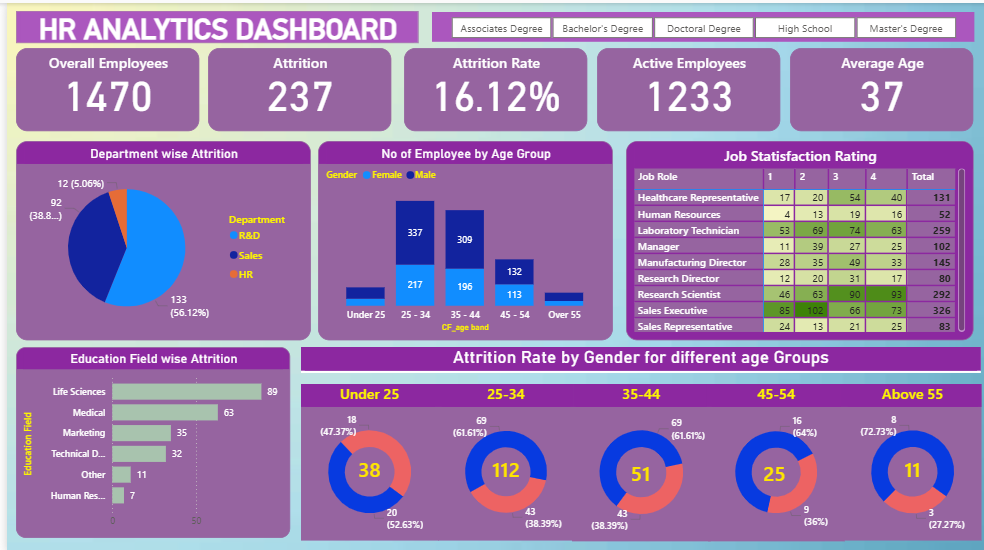

Layout of this report page (visuals, bound fields, positions):
{"tool":"powerbi","page":{"name":"Page 1","canvas":[1280,720],"ordinal":0},"visuals":[{"type":"card","title":"Overall Employees","fields":{"Values":["Sum(Data.Employee Count)"]},"box":[11.8,58.8,240.2,109.2],"z":0},{"type":"card","title":"Attrition","fields":{"Values":["Sum(Data.Attrition Count)"]},"box":[263.7,58.8,240.2,109.2],"z":1000},{"type":"card","title":"Attrition Rate","fields":{"Values":["Data.Attrition Rate"]},"box":[519.1,58.8,240.2,109.2],"z":2000},{"type":"card","title":"Active Employees","fields":{"Values":["Data.Active Employees"]},"box":[772.7,58.8,240.2,109.2],"z":3000},{"type":"card","title":"Average Age","fields":{"Values":["Avg(Data.Age)"]},"box":[1024.7,58.8,240.2,109.2],"z":4000},{"type":"pieChart","title":"Department wise Attrition","fields":{"Category":["Data.Department"],"Y":["Sum(Data.Attrition Count)"]},"box":[11.5,180,385.9,260.6],"z":5000},{"type":"columnChart","title":"No of Employee by Age Group","fields":{"Category":["Data.CF_age band"],"Y":["Sum(Data.Employee Count)"],"Series":["Data.Gender"]},"box":[407.5,180,385.9,260.6],"z":6000},{"type":"pivotTable","title":"Job Statisfaction Rating","fields":{"Rows":["Data.Job Role"],"Values":["Sum(Data.Employee Count)"],"Columns":["Data.Job Satisfaction"]},"box":[810.7,180,455,260.6],"z":7000},{"type":"barChart","title":"Education Field wise Attrition","fields":{"Category":["Data.Education Field"],"Y":["Sum(Data.Attrition Count)"]},"box":[11.8,450.2,359.5,250.3],"z":8000},{"type":"donutChart","title":"Under 25","fields":{"Y":["Sum(Data.Attrition Count)"],"Category":["Data.Gender"],"Series":["Data.CF_age band"]},"box":[384.7,498.9,179.7,204.9],"z":9000},{"type":"textbox","title":"Attrition Rate by Gender for different age Groups","box":[384.7,450.2,890.3,33.6],"z":10000},{"type":"donutChart","title":"35-44","fields":{"Y":["Sum(Data.Attrition Count)"],"Category":["Data.Gender"],"Series":["Data.CF_age band"]},"box":[740.2,498.2,181.4,205.9],"z":11000},{"type":"donutChart","title":"45-54","fields":{"Y":["Sum(Data.Attrition Count)"],"Category":["Data.Gender"],"Series":["Data.CF_age band"]},"box":[917.3,498.2,178.6,205.9],"z":12000},{"type":"donutChart","title":"25-34","fields":{"Y":["Sum(Data.Attrition Count)"],"Category":["Data.Gender"],"Series":["Data.CF_age band"]},"box":[564.4,498.9,178.1,204.9],"z":13000},{"type":"donutChart","title":"Above 55","fields":{"Y":["Sum(Data.Attrition Count)"],"Category":["Data.Gender"],"Series":["Data.CF_age band"]},"box":[1095.2,498.9,179.7,204.9],"z":14000},{"type":"card","fields":{"Values":["Sum(Data.Attrition Count)"]},"box":[450.2,589.6,48.7,45.4],"z":15000},{"type":"card","fields":{"Values":["Sum(Data.Attrition Count)"]},"box":[1160.7,589.6,48.7,45.4],"z":16000},{"type":"card","fields":{"Values":["Sum(Data.Attrition Count)"]},"box":[981,594.6,48.7,45.4],"z":17000},{"type":"card","fields":{"Values":["Sum(Data.Attrition Count)"]},"box":[804.6,594.6,48.7,45.4],"z":18000},{"type":"card","fields":{"Values":["Sum(Data.Attrition Count)"]},"box":[623.2,589.6,60.5,45.4],"z":19000},{"type":"textbox","title":"HR ANALYTICS DASHBOARD","box":[11.5,10.1,527,41.8],"z":20000},{"type":"slicer","fields":{"Values":["Data.Education"]},"box":[555.8,11.5,709.9,38.9],"z":21000}]}

Visuals, with their boxes in screenshot pixels (x1, y1, x2, y2), scaled from the page's 1280x720 canvas onto the 984x550 screenshot:
"Overall Employees" card: 9 45 194 128
"Attrition" card: 203 45 387 128
"Attrition Rate" card: 399 45 584 128
"Active Employees" card: 594 45 779 128
"Average Age" card: 788 45 972 128
"Department wise Attrition" pieChart: 9 138 306 337
"No of Employee by Age Group" columnChart: 313 138 610 337
"Job Statisfaction Rating" pivotTable: 623 138 973 337
"Education Field wise Attrition" barChart: 9 344 285 535
"Under 25" donutChart: 296 381 434 538
"Attrition Rate by Gender for different age Groups" textbox: 296 344 980 370
"35-44" donutChart: 569 381 708 538
"45-54" donutChart: 705 381 842 538
"25-34" donutChart: 434 381 571 538
"Above 55" donutChart: 842 381 980 538
card - Sum(Data.Attrition Count): 346 450 384 485
card - Sum(Data.Attrition Count): 892 450 930 485
card - Sum(Data.Attrition Count): 754 454 792 489
card - Sum(Data.Attrition Count): 619 454 656 489
card - Sum(Data.Attrition Count): 479 450 526 485
"HR ANALYTICS DASHBOARD" textbox: 9 8 414 40
slicer - Data.Education: 427 9 973 38
